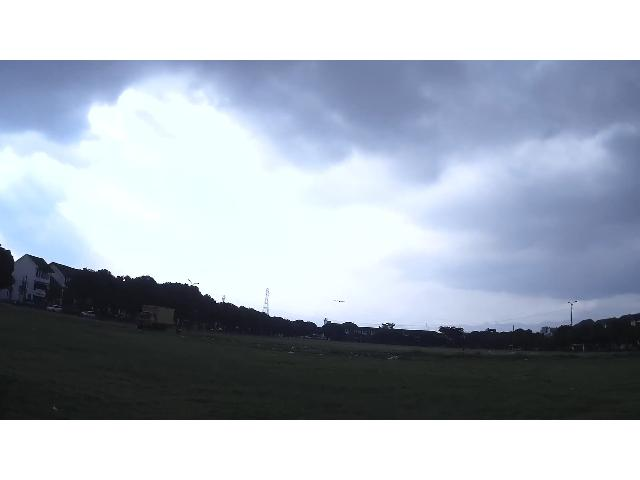Anti-Drone: (328, 294, 354, 312)
